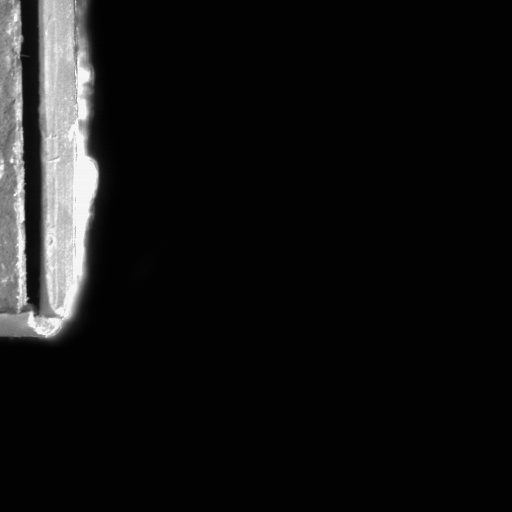kaijiao: (7, 3, 102, 344)
